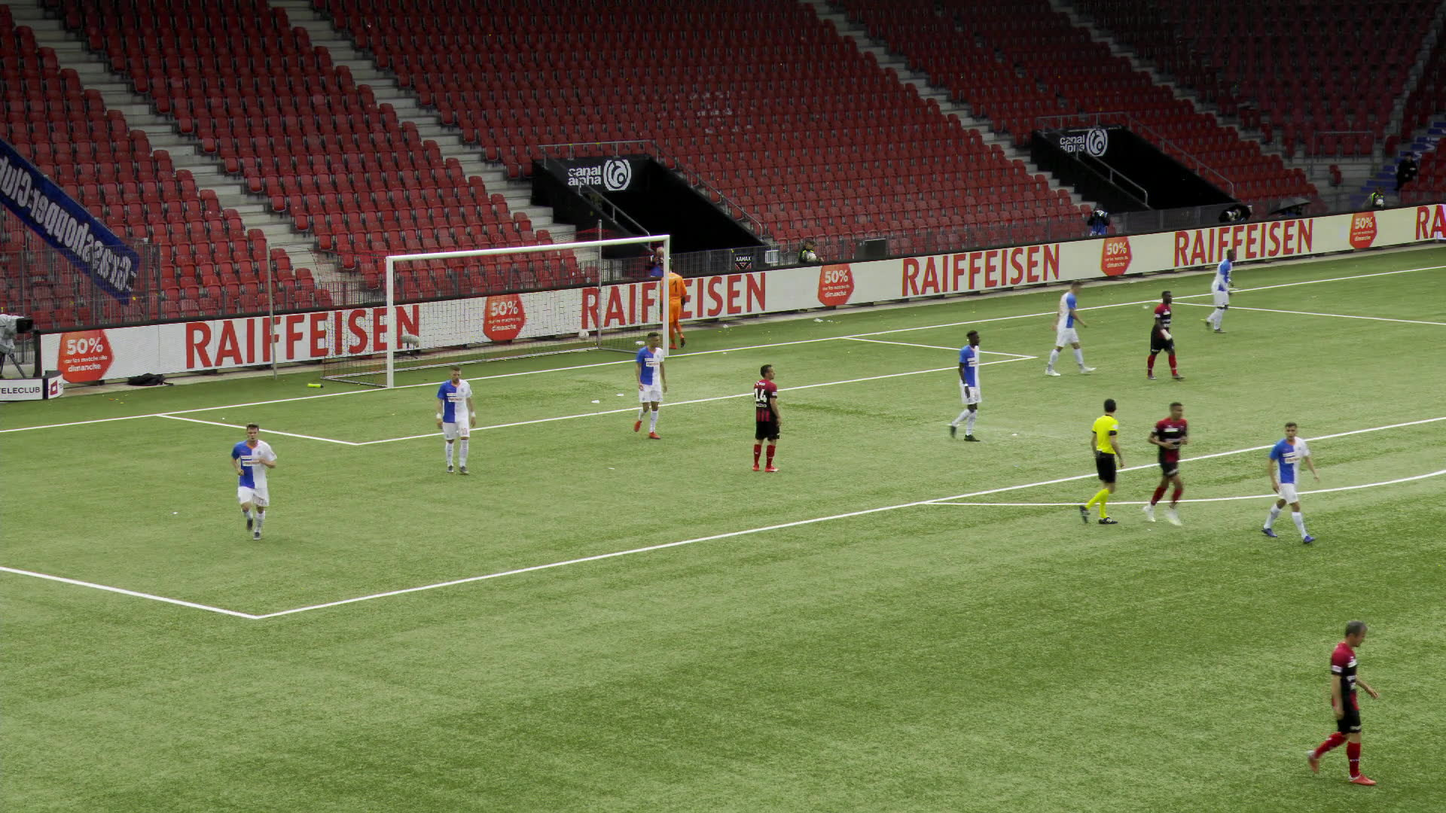ball: (578, 328, 587, 336)
player: (1303, 622, 1377, 786), (1261, 422, 1319, 544), (1142, 402, 1188, 525), (229, 423, 276, 541), (1044, 279, 1096, 376), (435, 367, 476, 473), (632, 333, 668, 438), (751, 364, 783, 473), (1146, 289, 1182, 380), (951, 330, 981, 439), (1200, 249, 1235, 333), (659, 260, 686, 351)
referee: (1079, 397, 1124, 524)
